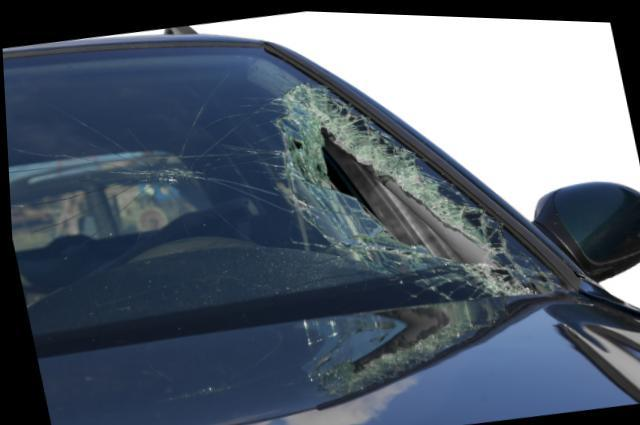glass shatter: (2, 44, 570, 359)
